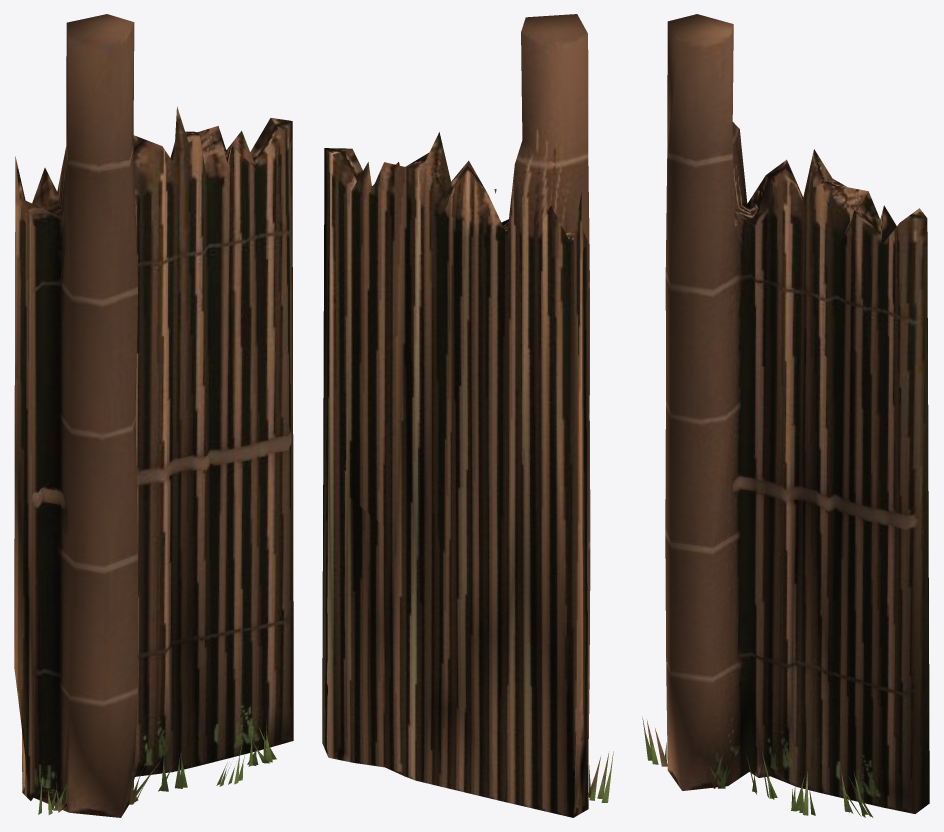
The model's file is fence_reed_end_w_far.glb.
The picture shows the model from 3 angles, left to right: view 1: azimuth 30°, elevation 25°; view 2: azimuth 150°, elevation 25°; view 3: azimuth 330°, elevation 25°; orthographic projection. The views are drawn at different scales.
Visible parts, largest first — view 1: fence_reed_end_w_lod1; view 2: fence_reed_end_w_lod1; view 3: fence_reed_end_w_lod1.
Boxes of the visible parts, x1,y1,x2,y2 form: fence_reed_end_w_lod1: (14, 14, 293, 817); fence_reed_end_w_lod1: (322, 14, 613, 817); fence_reed_end_w_lod1: (642, 14, 929, 817).
Bounding box in the file's own units: 0.6428 × 1.74 × 0.2044.
Materials: 1 (1 with a texture image).
